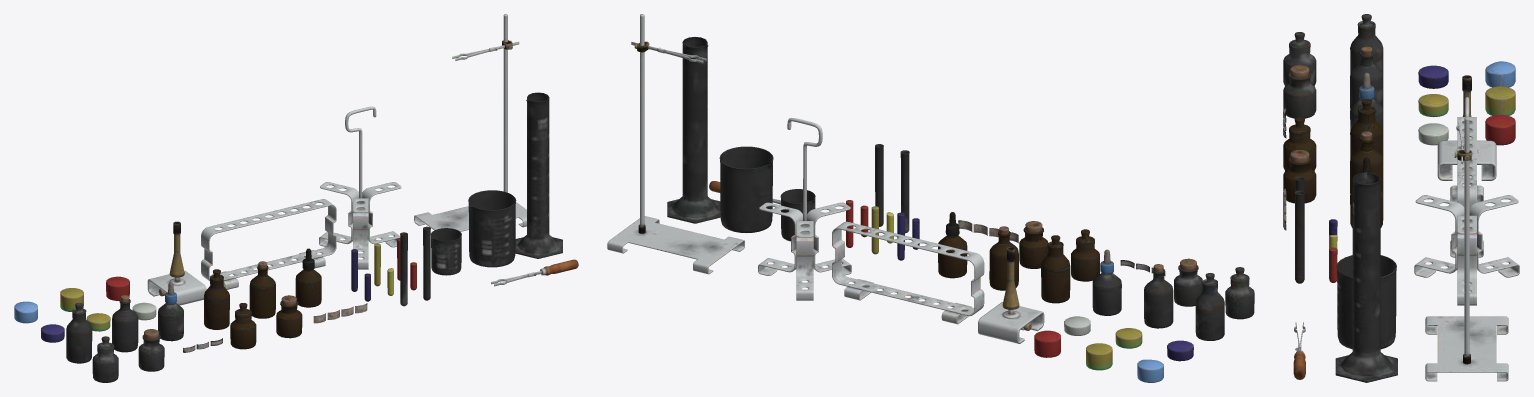
File: chemistry_set.glb
3 renders of one model, left to right at view 1: azimuth 30°, elevation 25°; view 2: azimuth 150°, elevation 25°; view 3: azimuth 270°, elevation 25°, orthographic. The views are drawn at different scales.
Parts seen in each view (by area): view 1: chemistry_set_beaker_large, chemistry_set_beaker_med, chemistry_set_test_tube_stand_a, chemistry_set_test_tube_stand_b, chemistry_set_clamp_stand, chemistry_set_bunsen_burner, chemistry_set_beaker_small, chemistry_set_bottle_clear_c, chemistry_set_bottle_dark_c, chemistry_set_bottle_dark_d, chemistry_set_bottle_clear_d, chemistry_set_bottle_dark_e (+11 smaller); view 2: chemistry_set_beaker_large, chemistry_set_clamp_stand, chemistry_set_beaker_med, chemistry_set_test_tube_stand_a, chemistry_set_test_tube_stand_b, chemistry_set_bunsen_burner, chemistry_set_bottle_clear_c, chemistry_set_bottle_dark_c, chemistry_set_bottle_clear_d, chemistry_set_bottle_clear_e, chemistry_set_bottle_dark_d, chemistry_set_bottle_clear_a (+10 smaller); view 3: chemistry_set_beaker_large, chemistry_set_clamp_stand, chemistry_set_test_tube_stand_b, chemistry_set_beaker_med, chemistry_set_bunsen_burner, chemistry_set_test_tube_stand_a, chemistry_set_bottle_clear_b, chemistry_set_bottle_clear_d, chemistry_set_bottle_dark_b, chemistry_set_bottle_dark_c, chemistry_set_bottle_clear_c, chemistry_set_bottle_dark_d (+16 smaller).
Boxes of the visible parts, left/top/right/bottom form: chemistry_set_beaker_large: left=515, top=92, right=562, bottom=258; chemistry_set_beaker_med: left=468, top=190, right=516, bottom=267; chemistry_set_test_tube_stand_a: left=201, top=199, right=336, bottom=289; chemistry_set_test_tube_stand_b: left=319, top=106, right=401, bottom=269; chemistry_set_clamp_stand: left=414, top=14, right=526, bottom=231; chemistry_set_bunsen_burner: left=147, top=221, right=206, bottom=305; chemistry_set_beaker_small: left=430, top=228, right=461, bottom=275; chemistry_set_bottle_clear_c: left=66, top=308, right=92, bottom=363; chemistry_set_bottle_dark_c: left=204, top=275, right=229, bottom=329; chemistry_set_bottle_dark_d: left=249, top=265, right=275, bottom=318; chemistry_set_bottle_clear_d: left=112, top=299, right=138, bottom=352; chemistry_set_bottle_dark_e: left=295, top=269, right=321, bottom=307; chemistry_set_beaker_large: left=667, top=37, right=720, bottom=223; chemistry_set_clamp_stand: left=607, top=14, right=744, bottom=274; chemistry_set_beaker_med: left=719, top=146, right=773, bottom=232; chemistry_set_test_tube_stand_a: left=832, top=221, right=984, bottom=324; chemistry_set_test_tube_stand_b: left=758, top=118, right=851, bottom=300; chemistry_set_bunsen_burner: left=978, top=247, right=1044, bottom=343; chemistry_set_bottle_clear_c: left=1195, top=279, right=1224, bottom=340; chemistry_set_bottle_dark_c: left=1041, top=241, right=1070, bottom=303; chemistry_set_bottle_clear_d: left=1144, top=268, right=1173, bottom=328; chemistry_set_bottle_clear_e: left=1092, top=273, right=1121, bottom=315; chemistry_set_bottle_dark_d: left=989, top=231, right=1018, bottom=290; chemistry_set_bottle_clear_a: left=1225, top=274, right=1254, bottom=319; chemistry_set_beaker_large: left=1335, top=172, right=1397, bottom=382; chemistry_set_clamp_stand: left=1425, top=117, right=1508, bottom=381; chemistry_set_test_tube_stand_b: left=1414, top=97, right=1519, bottom=305; chemistry_set_beaker_med: left=1336, top=255, right=1396, bottom=349; chemistry_set_bunsen_burner: left=1437, top=75, right=1496, bottom=180; chemistry_set_test_tube_stand_a: left=1450, top=117, right=1483, bottom=257; chemistry_set_bottle_clear_b: left=1283, top=72, right=1316, bottom=118; chemistry_set_bottle_clear_d: left=1350, top=52, right=1383, bottom=109; chemistry_set_bottle_dark_b: left=1283, top=157, right=1316, bottom=203; chemistry_set_bottle_dark_c: left=1350, top=106, right=1383, bottom=159; chemistry_set_bottle_clear_c: left=1350, top=21, right=1383, bottom=74; chemistry_set_bottle_dark_d: left=1350, top=136, right=1383, bottom=193.
Bounding box in the file's own units: 1.08 × 0.429 × 0.3539.
2 materials, 2 textured.
